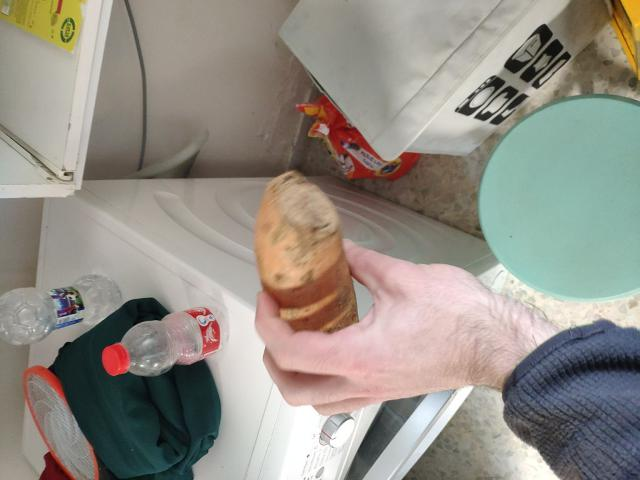sweet_potato: (246, 212, 380, 348)
